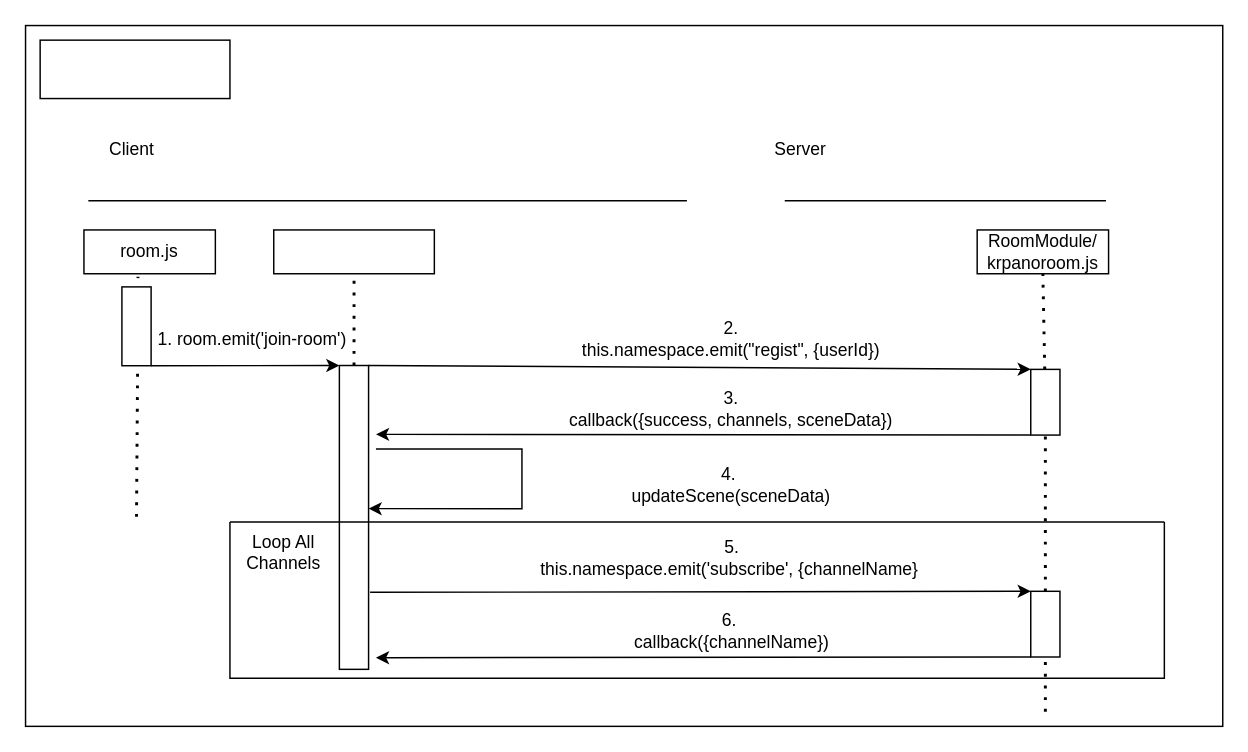
The diagram is 1248 pixels wide and 752 high, and some of its shapes have lost their labels. The centre of each missing label's shape, as x and y in pixels:
Join-room : krpanoroom module: the point at 134,69
RoomModule/ KrpanoroomClient: the point at 353,251
